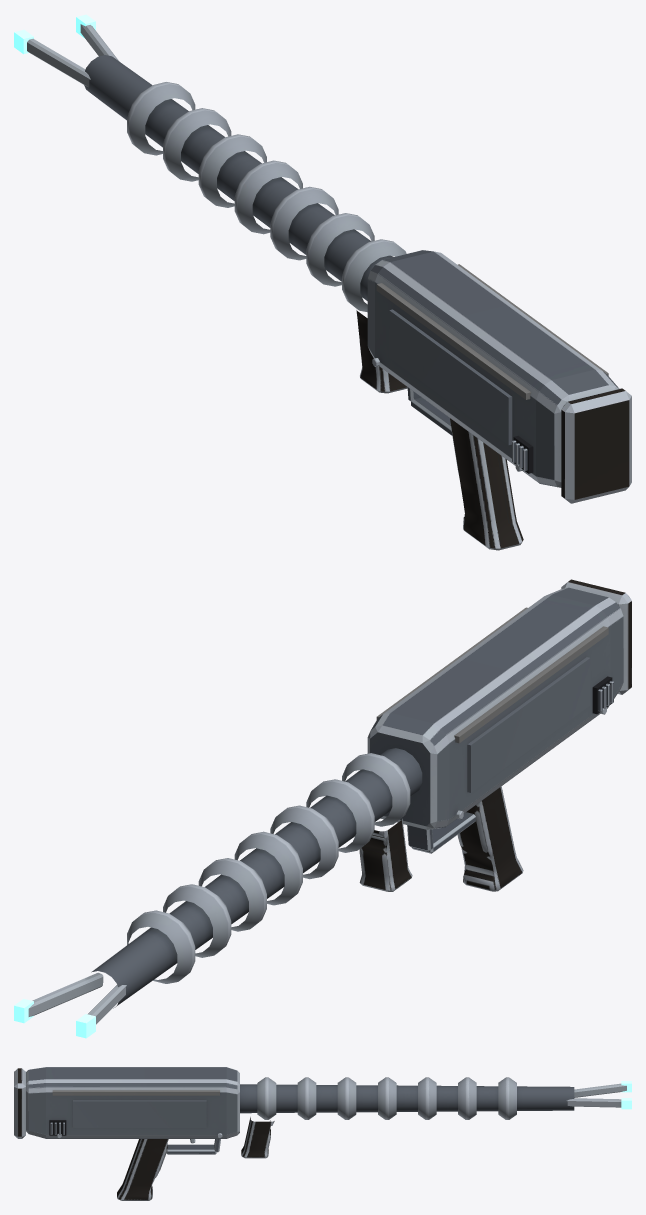
The picture shows the model from 3 angles, top to bottom: view 1: azimuth 30°, elevation 25°; view 2: azimuth 150°, elevation 25°; view 3: azimuth 270°, elevation 25°; orthographic projection. The views are drawn at different scales.
Parts seen in each view (by area): view 1: body; view 2: body; view 3: body.
Boxes of the visible parts, <box> form: body: <box>14,14,631,550</box>; body: <box>14,579,631,1038</box>; body: <box>14,1067,631,1200</box>.
Size of the model in its own units: 0.087 by 0.203 by 0.924.
1 material, 1 textured.
